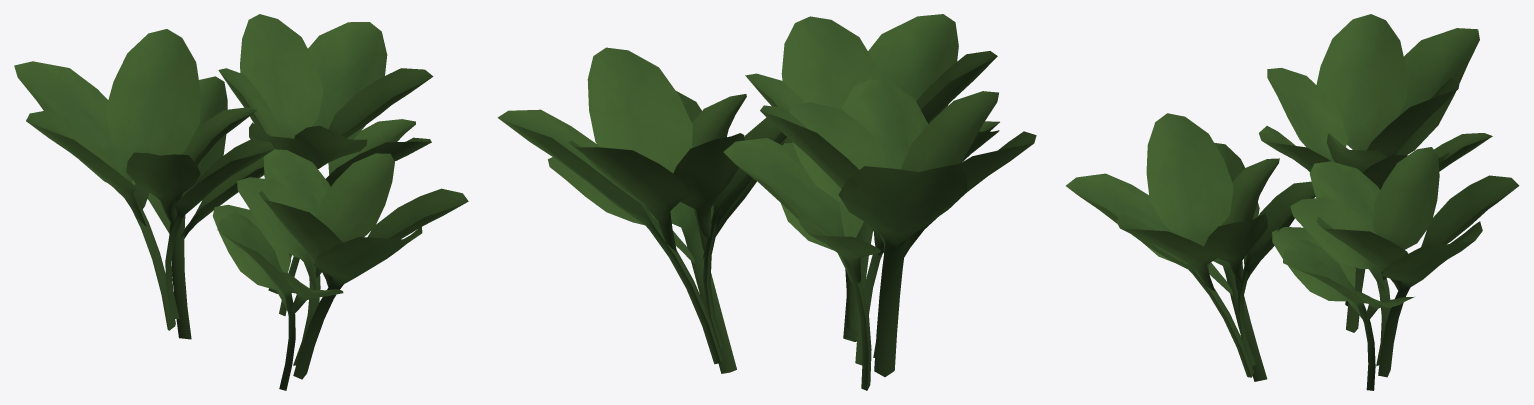
The model's file is Crop_Spinach_Stage_06.fbx.
3 renders of one model, left to right at view 1: azimuth 30°, elevation 25°; view 2: azimuth 150°, elevation 25°; view 3: azimuth 270°, elevation 25°, orthographic. The views are drawn at different scales.
Visible parts, largest first — view 1: Spinach_Stage_06; view 2: Spinach_Stage_06; view 3: Spinach_Stage_06.
Part boxes in pixels (box(x1,y1,x2,y2)): Spinach_Stage_06: box(14, 14, 468, 390); Spinach_Stage_06: box(497, 14, 1036, 390); Spinach_Stage_06: box(1066, 14, 1519, 390).
Size of the model in its own units: 63.61 by 44.22 by 63.71.
